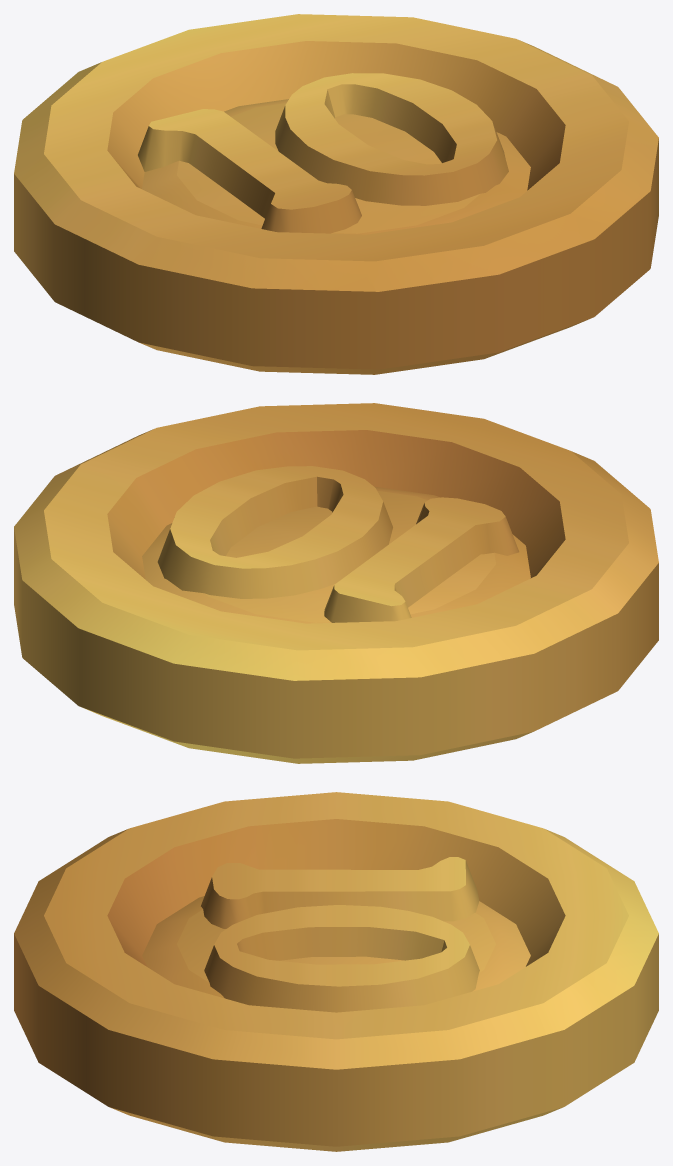
Rendered from board.coin_10_gold.glb.
3 views of the same model, one above another, from view 1: azimuth 30°, elevation 25°; view 2: azimuth 150°, elevation 25°; view 3: azimuth 270°, elevation 25° (orthographic).
Parts seen in each view (by area): view 1: coin_10_gold; view 2: coin_10_gold; view 3: coin_10_gold.
Boxes of the visible parts, x1,y1,x2,y2 form: coin_10_gold: (14,14,658,374); coin_10_gold: (14,403,658,763); coin_10_gold: (14,792,658,1151).
Size of the model in its own units: 0.0277 by 0.00533 by 0.0277.
Materials: 1 (1 with a texture image).
